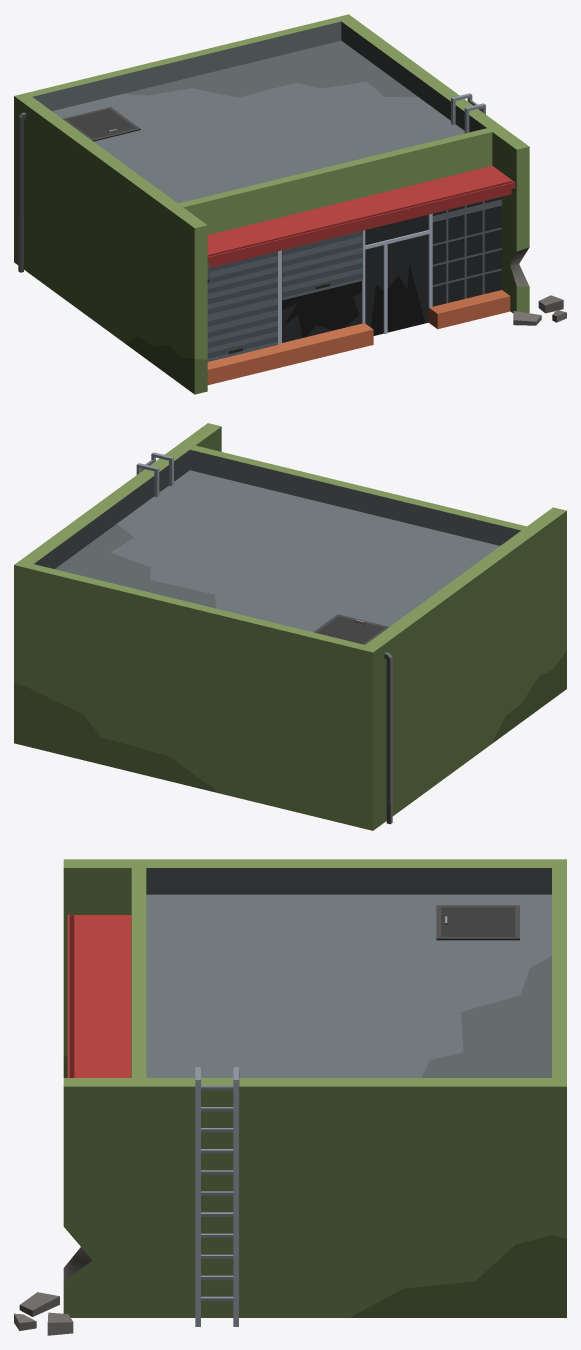
The model's file is SA_Bld_ShopSmall_01.gltf.
3 views of the same model, one above another, from view 1: azimuth 30°, elevation 25°; view 2: azimuth 150°, elevation 25°; view 3: azimuth 270°, elevation 25° (orthographic). The views are drawn at different scales.
Visible parts, largest first — view 1: SA_Bld_ShopSmall_01; view 2: SA_Bld_ShopSmall_01; view 3: SA_Bld_ShopSmall_01.
Boxes of the visible parts, x1,y1,x2,y2 form: SA_Bld_ShopSmall_01: (14,14,566,394); SA_Bld_ShopSmall_01: (14,423,566,830); SA_Bld_ShopSmall_01: (14,859,566,1335).
Bounding box in the file's own units: 13.76 × 6.33 × 12.83.
Materials: 1 (1 with a texture image).
